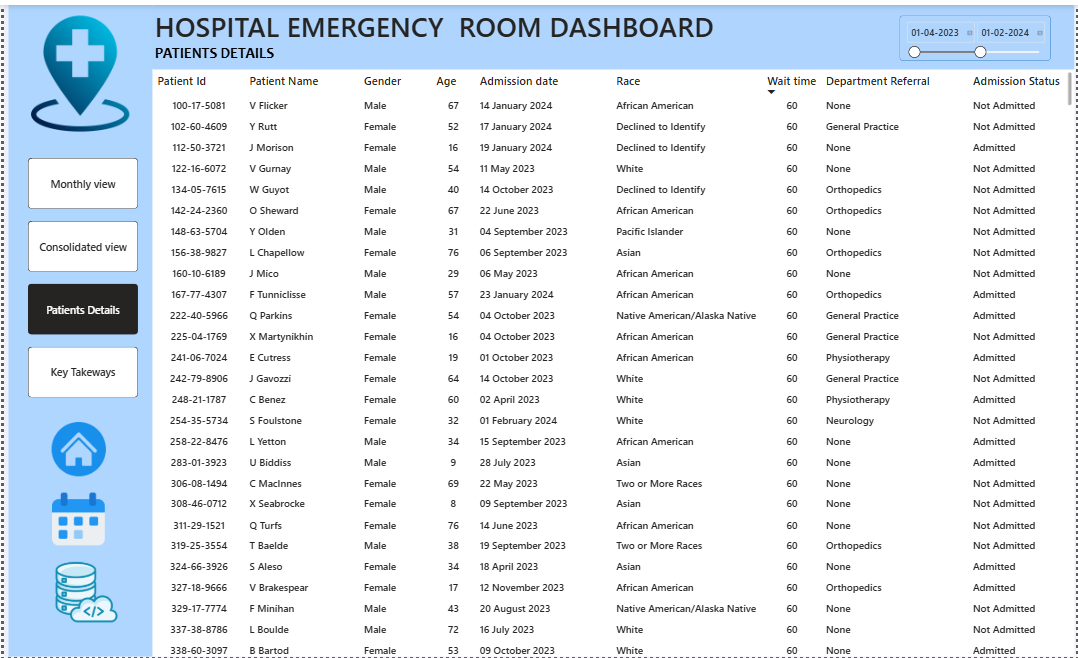

This screenshot's page, from the dashboard's own definition file:
{"tool":"powerbi","page":{"name":"Patients Details","canvas":[2300,1400],"ordinal":2},"visuals":[{"type":"shape","box":[10.2,0,310,1399],"z":0},{"type":"shape","box":[319.2,0,1979.7,140],"z":1000},{"type":"textbox","box":[319.2,0,1229.2,98.5],"z":2000},{"type":"textbox","box":[319.5,78,324.4,61],"z":3000},{"type":"slicer","fields":{"Values":["Date Table.Date"]},"box":[1924.4,22,324.4,97.6],"z":4000},{"type":"image","box":[40,10,250,275],"z":5000},{"type":"tableEx","fields":{"Values":["Hospital ER_Data.Patient Id","Hospital ER_Data.Patient Full Name","Hospital ER_Data.Patient Gender","Sum(Hospital ER_Data.Patient Age)","Hospital ER_Data.Patient Admin. date","Hospital ER_Data.Patient Race","Sum(Hospital ER_Data.Patient Waittime)","Hospital ER_Data.Department Referral","Hospital ER_Data.Admission Status"]},"box":[320,140,1979,1259],"z":6000},{"type":"pageNavigator","box":[50,330,236.7,516.7],"z":7000},{"type":"image","box":[90,896.7,140,116.7],"z":8000},{"type":"image","box":[103.3,1190,150,146.7],"z":9000},{"type":"image","box":[103.3,1040,113.3,126.7],"z":10000}]}

Visuals, with their boxes in screenshot pixels (x1, y1, x2, y2), scaled from the page's 2300x1400 canvas onto the 1078x658 screenshot:
shape: {"x1": 5, "y1": 0, "x2": 150, "y2": 657}
shape: {"x1": 150, "y1": 0, "x2": 1077, "y2": 66}
textbox: {"x1": 150, "y1": 0, "x2": 726, "y2": 46}
textbox: {"x1": 150, "y1": 37, "x2": 302, "y2": 65}
slicer - Date Table.Date: {"x1": 902, "y1": 10, "x2": 1054, "y2": 56}
image: {"x1": 19, "y1": 5, "x2": 136, "y2": 134}
tableEx - Hospital ER_Data.Patient Id x Hospital ER_Data.Patient Full Name: {"x1": 150, "y1": 66, "x2": 1077, "y2": 657}
pageNavigator: {"x1": 23, "y1": 155, "x2": 134, "y2": 398}
image: {"x1": 42, "y1": 421, "x2": 108, "y2": 476}
image: {"x1": 48, "y1": 559, "x2": 119, "y2": 628}
image: {"x1": 48, "y1": 489, "x2": 102, "y2": 548}
